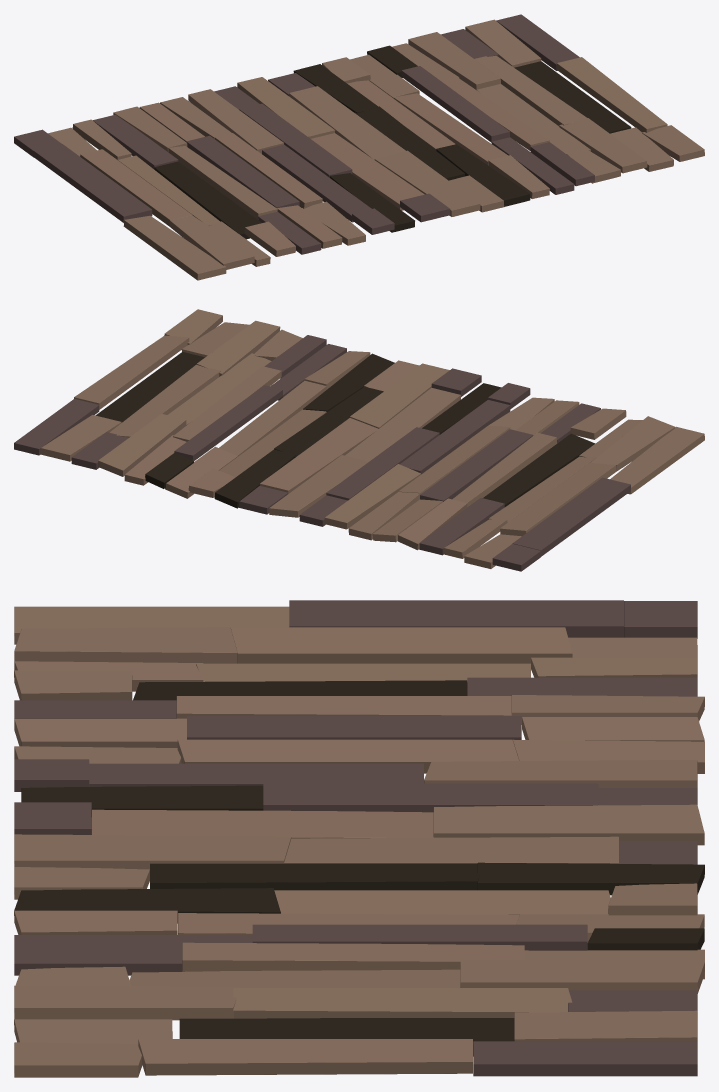
File: ceiling.fbx
3 views of the same model, one above another, from view 1: azimuth 30°, elevation 25°; view 2: azimuth 150°, elevation 25°; view 3: azimuth 270°, elevation 25° (orthographic). The views are drawn at different scales.
Visible parts, largest first — view 1: Plancher; view 2: Plancher; view 3: Plancher.
Boxes of the visible parts, x1,y1,x2,y2 form: Plancher: (14, 14, 704, 280); Plancher: (14, 309, 704, 571); Plancher: (14, 600, 704, 1077).
Bounding box in the file's own units: 641 × 18.36 × 407.
